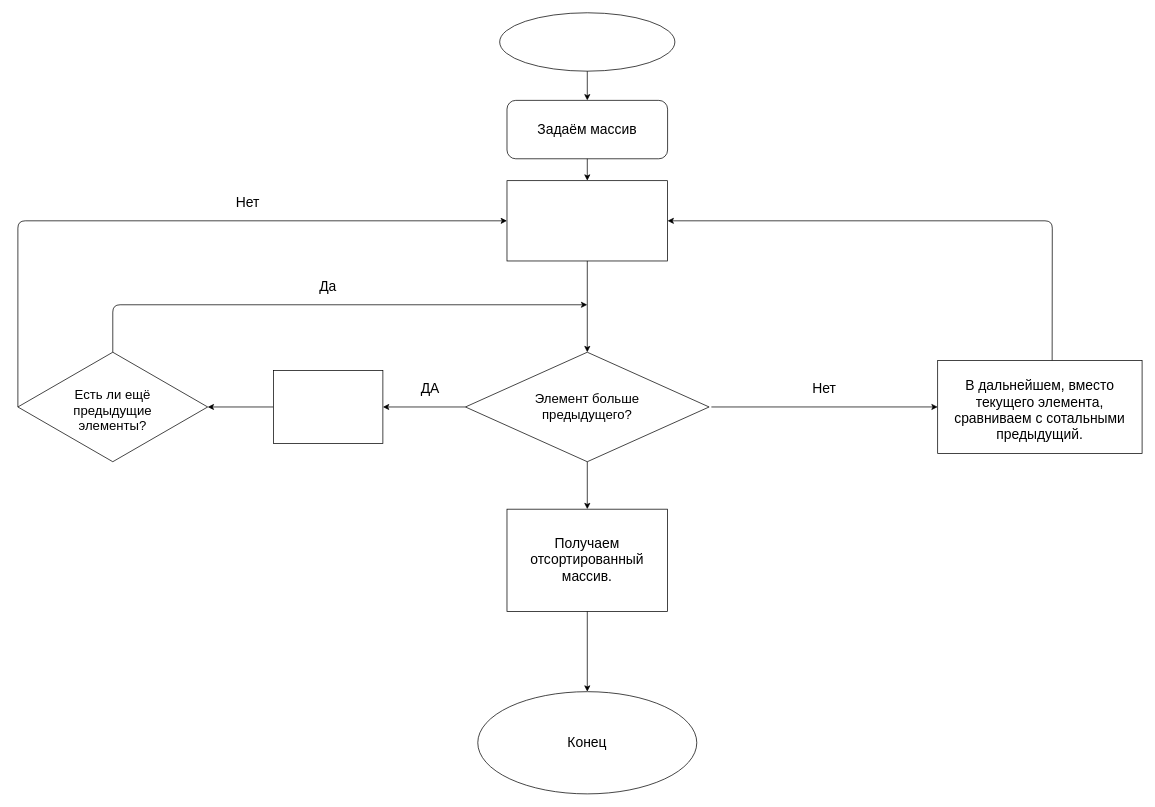
Image size: 1155x807. Some labels were removed from this diagram. The centre of each missing label's shape, as x and y in pixels:
"Начало" goes at point (587, 41).
"Переходим к следующему с конца элементу." goes at point (587, 220).
"Поменять местами меньший и больший элементы." goes at point (328, 406).
